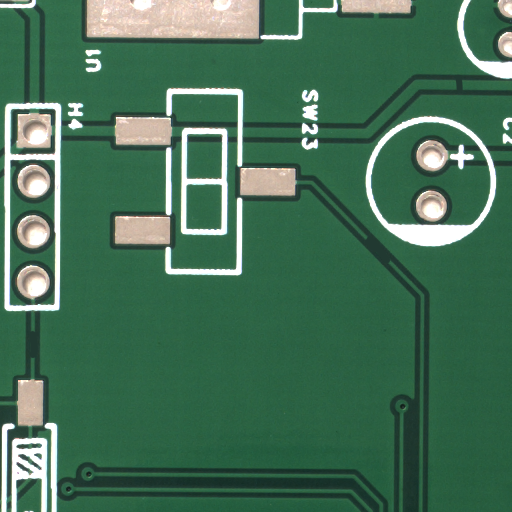Open_circuit: (378, 249, 401, 275), (30, 344, 38, 371), (459, 85, 466, 95)
